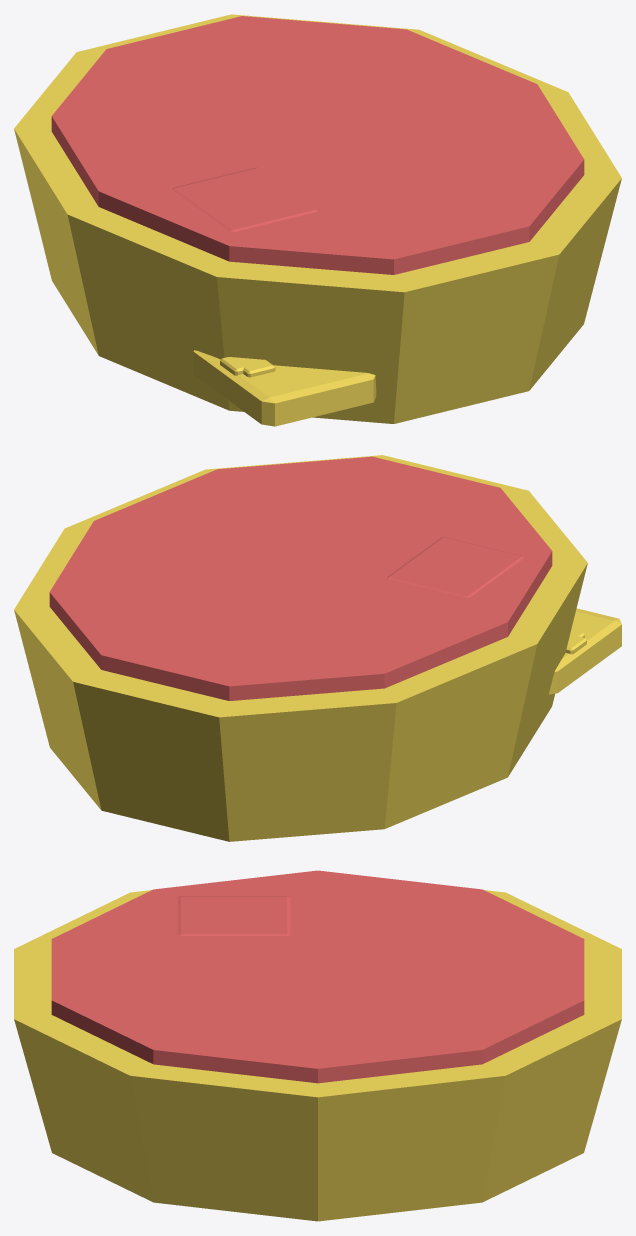
The model's file is b16_discarded_banana_peel.glb.
The picture shows the model from 3 angles, top to bottom: view 1: azimuth 30°, elevation 25°; view 2: azimuth 150°, elevation 25°; view 3: azimuth 270°, elevation 25°; orthographic projection. The views are drawn at different scales.
Parts seen in each view (by area): view 1: b16_discarded_banana_peel; view 2: b16_discarded_banana_peel; view 3: b16_discarded_banana_peel.
Part boxes in pixels (x1,y1,x2,y2): b16_discarded_banana_peel: (14, 14, 621, 426); b16_discarded_banana_peel: (14, 455, 621, 841); b16_discarded_banana_peel: (14, 870, 621, 1221).
Bounding box in the file's own units: 0.171 × 0.054 × 0.194.
